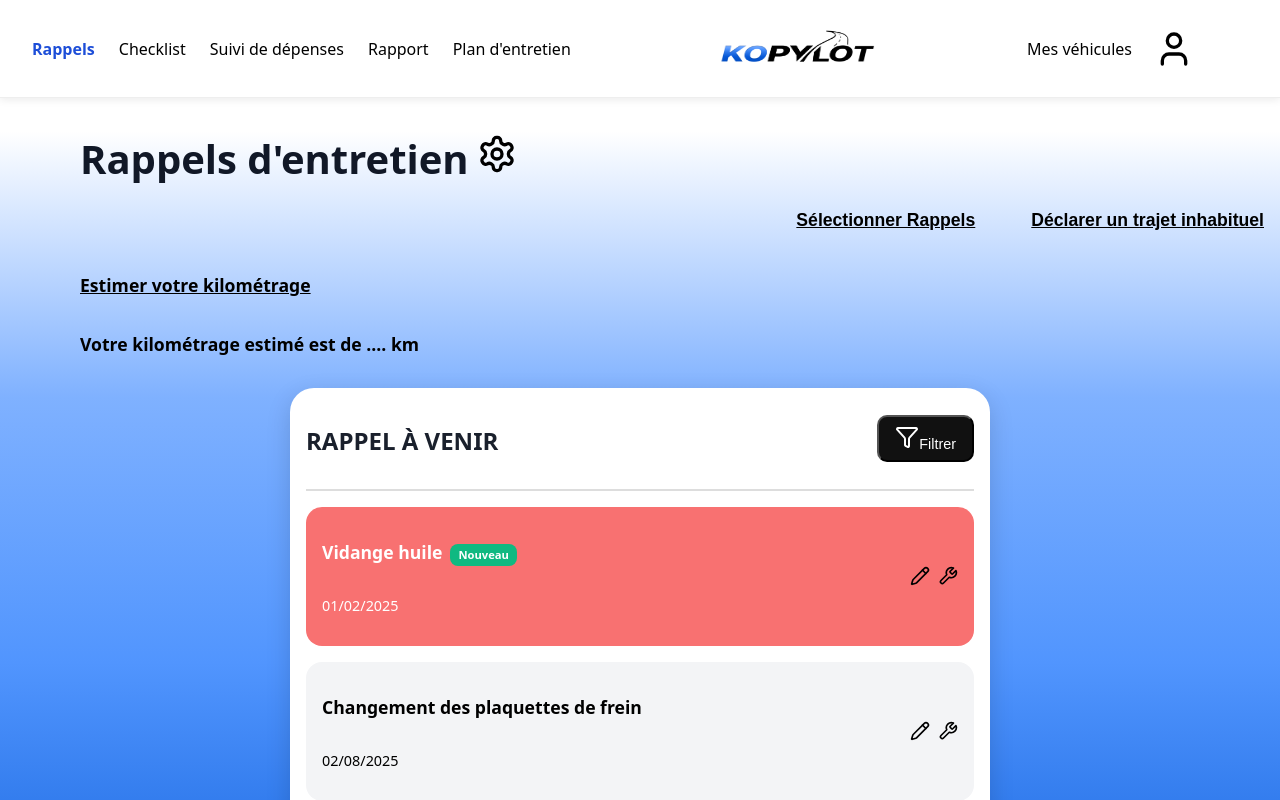
Scenario: RappelsPage - Couverture complète › modifie la date d'un rappel avec succès
Click the 4th icon at (920,576), box [910,566,930,586]
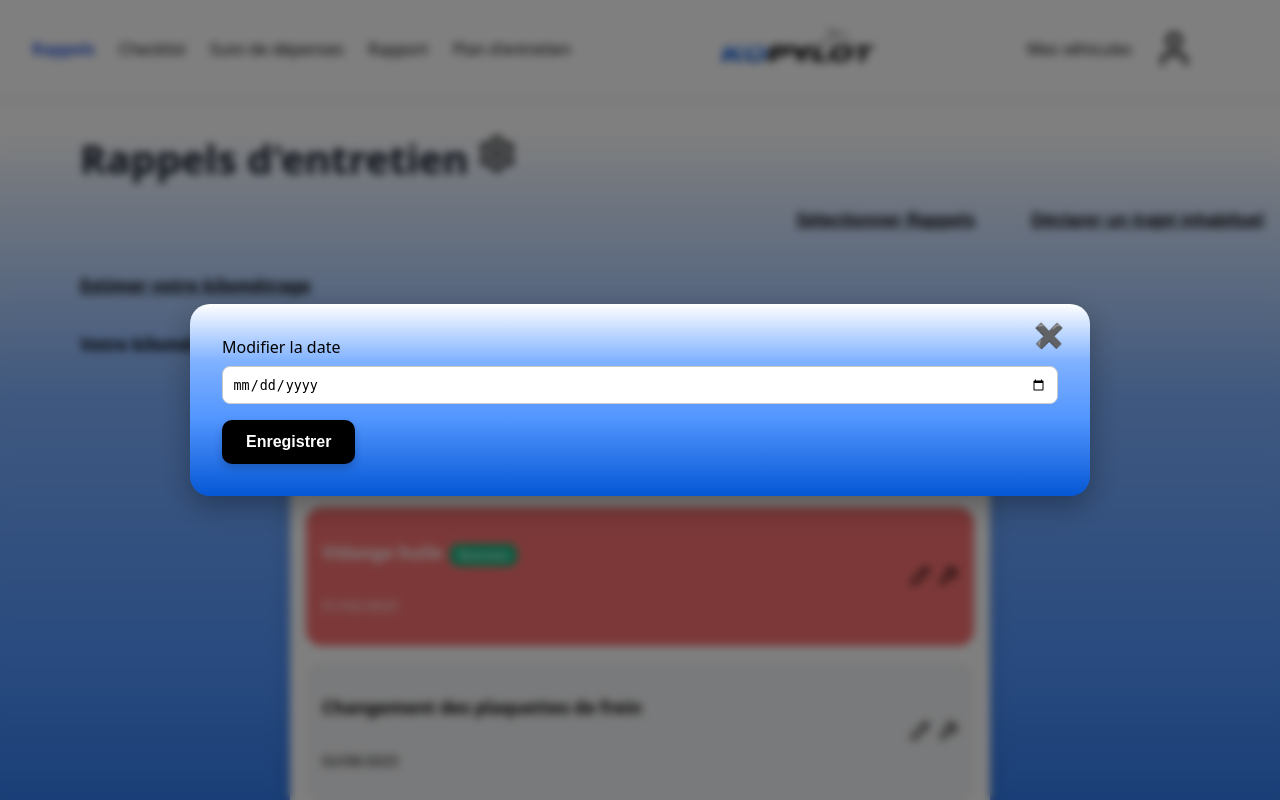
Type "2025-12-31" into the date field at (640,386), box [222,366,1058,405]
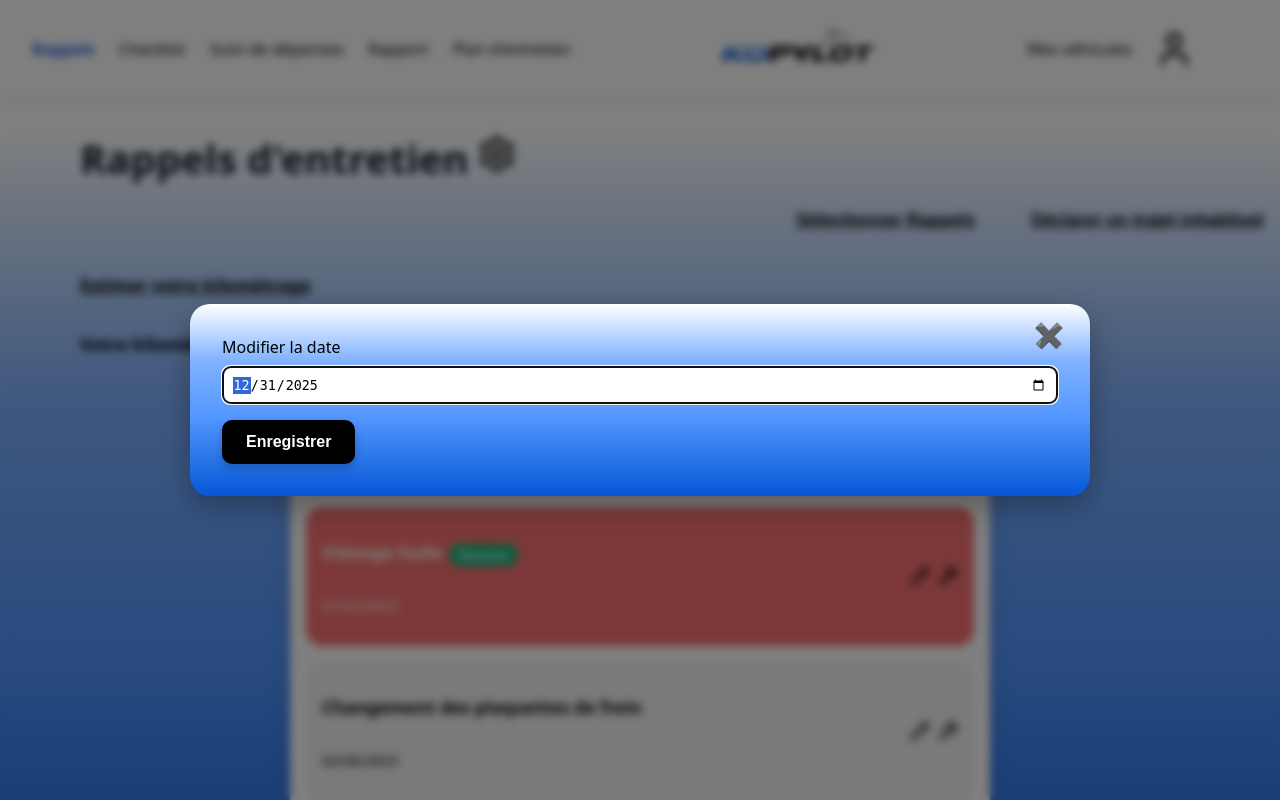
Click the button "Enregistrer" at (289,443), box [222,421,355,465]
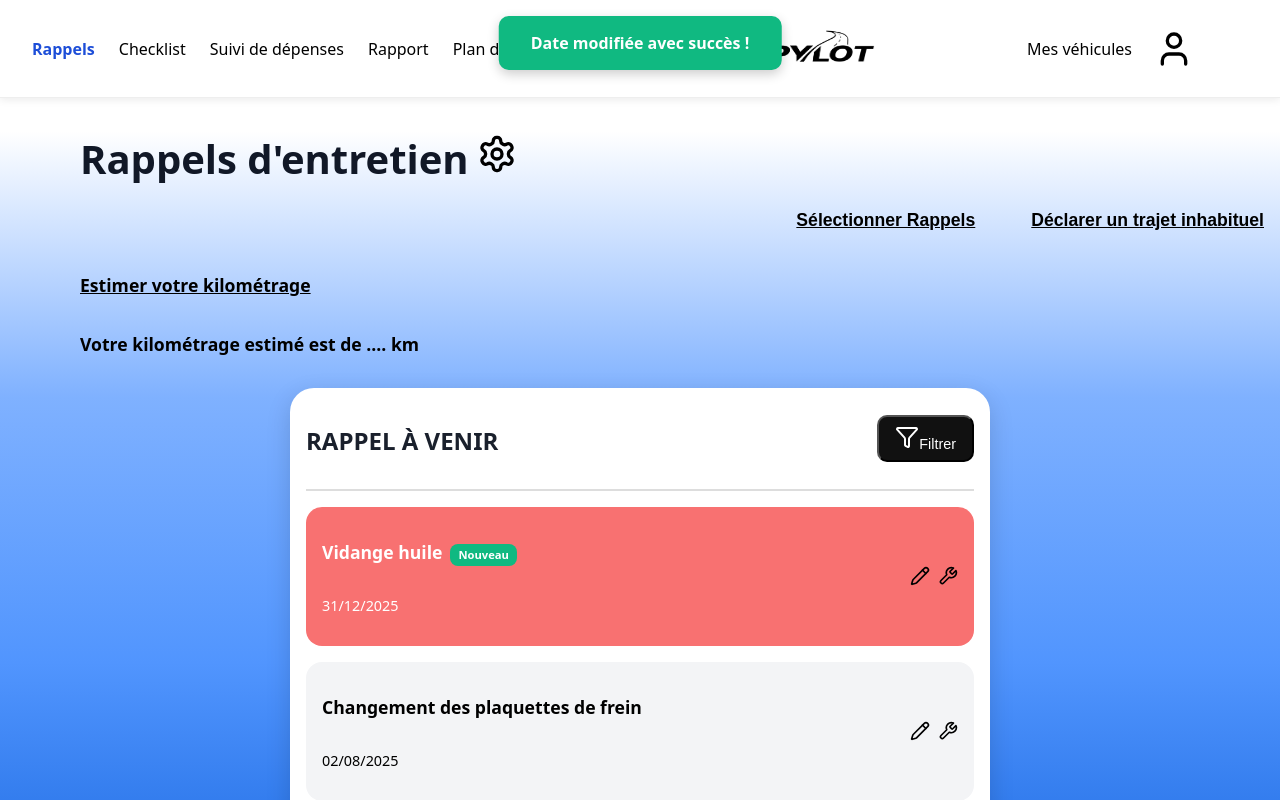
Check: the text "Date modifiée avec succès" is shown, box [531,32,750,54]
